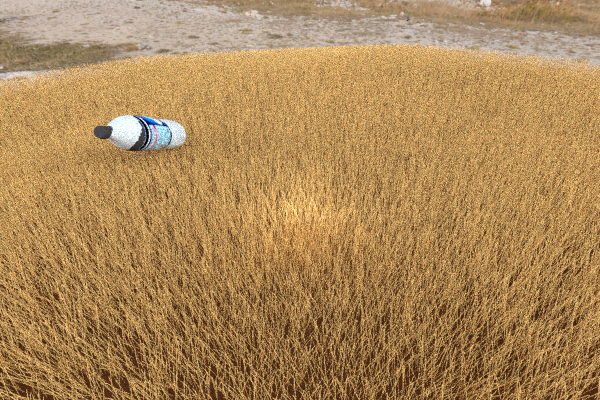Plastic Bottle: (274, 196, 384, 280), (97, 113, 187, 148), (251, 110, 301, 147)
